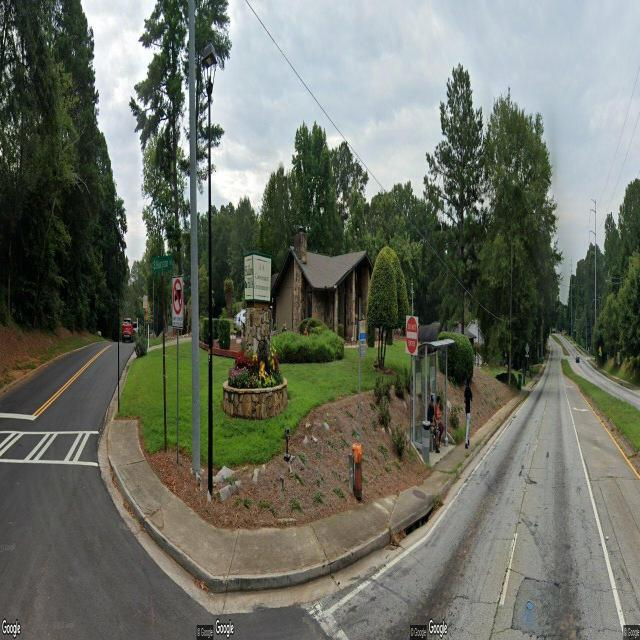seating: (431, 426, 442, 452)
shelter: (412, 338, 455, 459)
trash_can: (352, 442, 362, 502), (422, 421, 430, 460)
